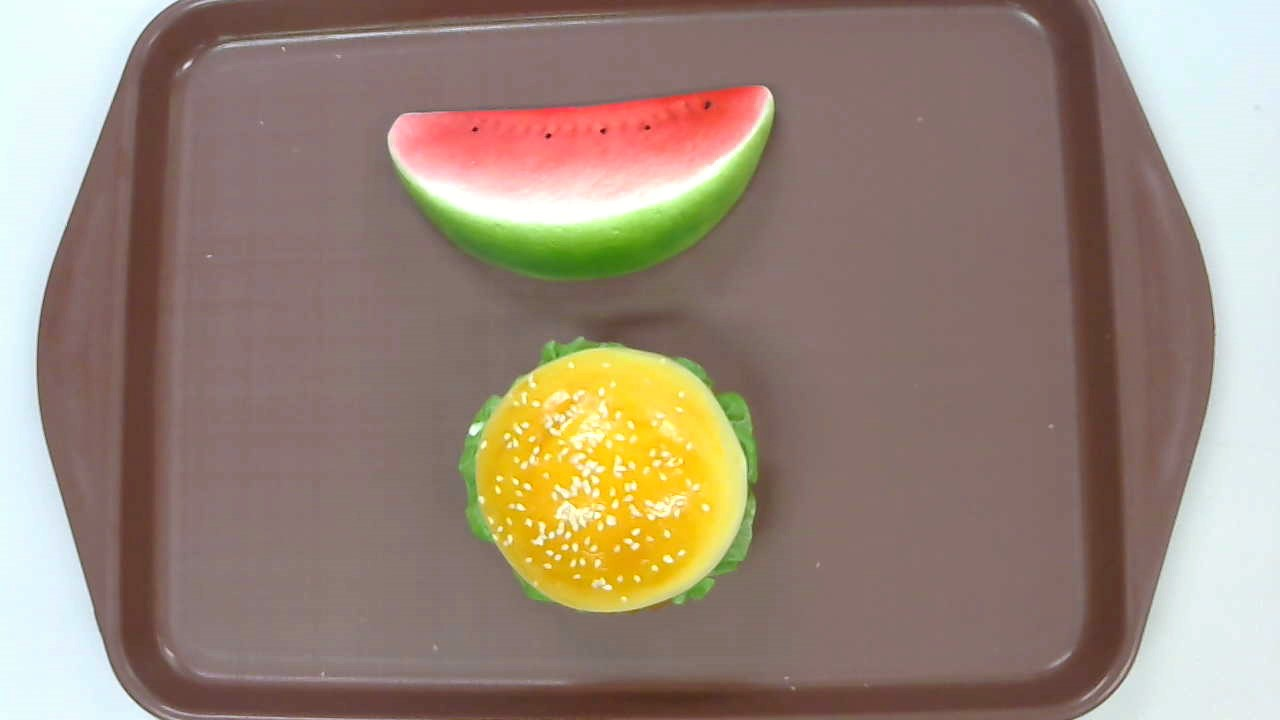hamburger: (454, 335, 759, 616)
water melon: (385, 83, 773, 284)
